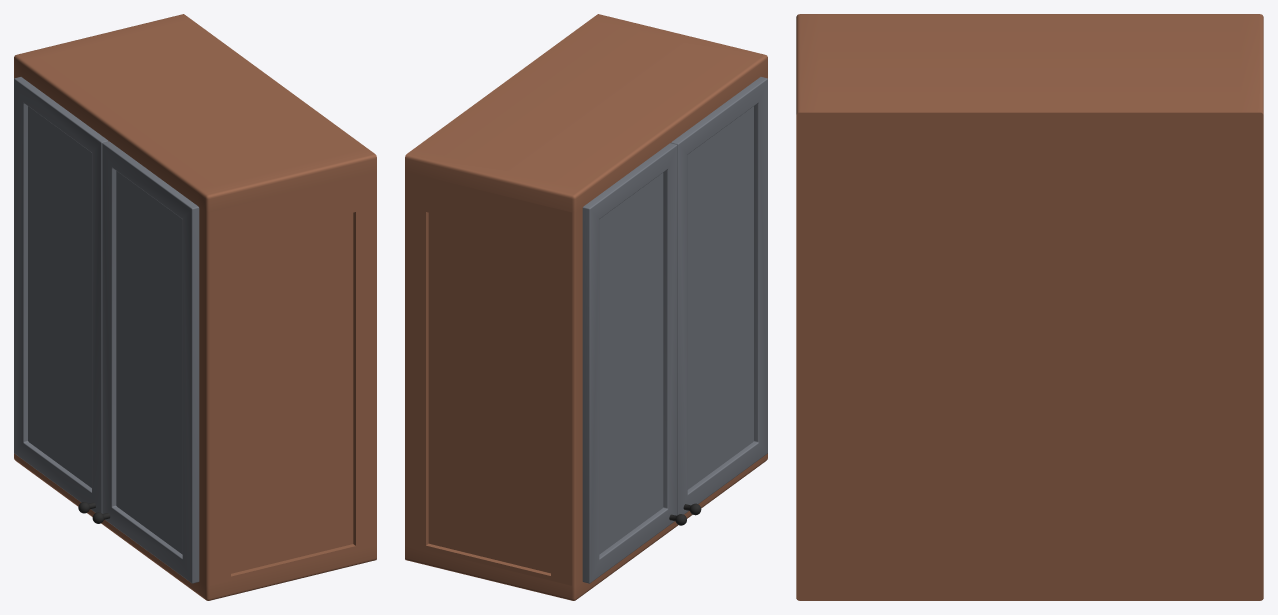
File: SmallCupboard.fbx
3 views of the same model, side by side, from view 1: azimuth 30°, elevation 25°; view 2: azimuth 150°, elevation 25°; view 3: azimuth 270°, elevation 25° (orthographic). The views are drawn at different scales.
Visible parts, largest first — view 1: SmallCupboardBody, SmallCupboardRightDoor, SmallCupboardLeftDoor; view 2: SmallCupboardBody, SmallCupboardLeftDoor, SmallCupboardRightDoor; view 3: SmallCupboardBody.
Boxes of the visible parts, x1,y1,x2,y2 form: SmallCupboardBody: [14, 14, 376, 600]; SmallCupboardRightDoor: [92, 141, 199, 583]; SmallCupboardLeftDoor: [14, 77, 108, 513]; SmallCupboardBody: [405, 14, 767, 600]; SmallCupboardLeftDoor: [582, 143, 686, 583]; SmallCupboardRightDoor: [671, 77, 767, 515]; SmallCupboardBody: [796, 14, 1263, 600].
Size of the model in its own units: 67.51 by 136 by 118.
